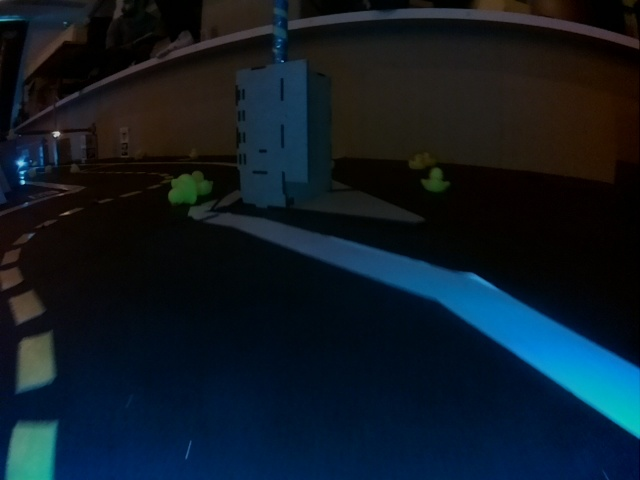Duckie: (170, 175, 197, 203), (422, 168, 449, 191), (194, 172, 213, 190), (409, 154, 425, 168), (425, 152, 435, 165), (72, 164, 80, 173), (189, 152, 198, 157)
QR code: (121, 143, 129, 153)
